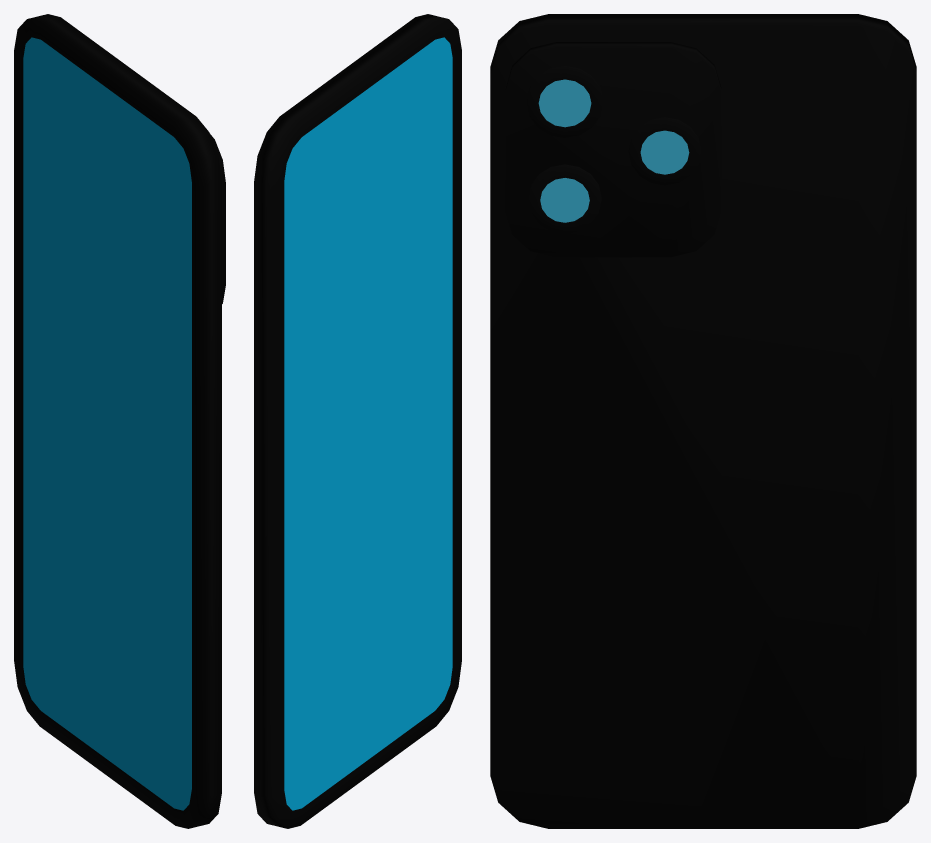
Rendered from IPhone.fbx.
3 renders of one model, left to right at view 1: azimuth 30°, elevation 25°; view 2: azimuth 150°, elevation 25°; view 3: azimuth 270°, elevation 25°, orthographic. The views are drawn at different scales.
Visible parts, largest first — view 1: Cylinder; view 2: Cylinder; view 3: Cylinder.
Part boxes in pixels (<box>): Cylinder: <box>14,14,225,828</box>; Cylinder: <box>254,14,461,828</box>; Cylinder: <box>490,14,916,828</box>.
Size of the model in its own units: 21.03 by 385 by 185.
